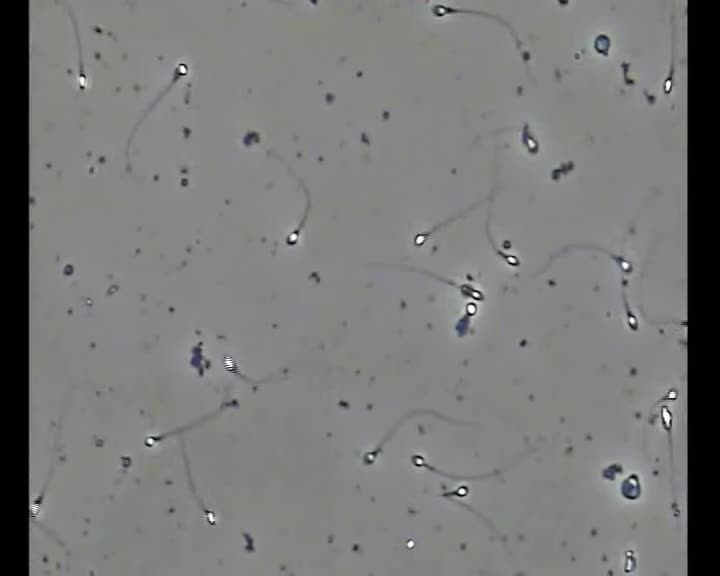spermhead: (521, 124, 538, 154), (593, 33, 609, 55), (431, 4, 455, 17), (660, 405, 672, 431), (663, 66, 673, 95), (615, 256, 632, 273), (173, 62, 189, 80), (32, 491, 45, 513), (285, 228, 300, 245), (626, 311, 638, 331), (363, 449, 378, 465), (502, 253, 519, 267), (453, 484, 469, 498), (76, 72, 88, 90), (411, 453, 426, 467), (663, 388, 678, 402), (145, 435, 161, 447), (412, 233, 425, 247), (465, 301, 477, 316), (206, 511, 216, 528)
